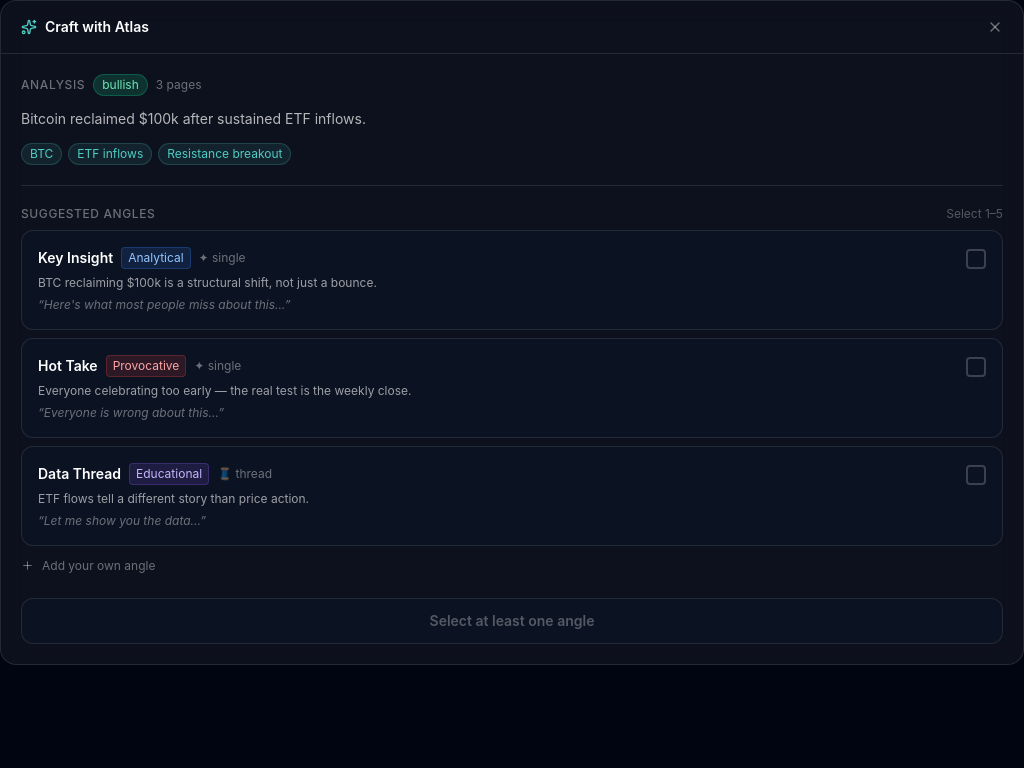
Test case: CraftingAdvisor › custom angle input › shows the custom input field when 'Add your own angle' is clicked
Step 1. Click the button "Add your own angle" → {"x": 99, "y": 565}, box [21, 554, 1003, 578]
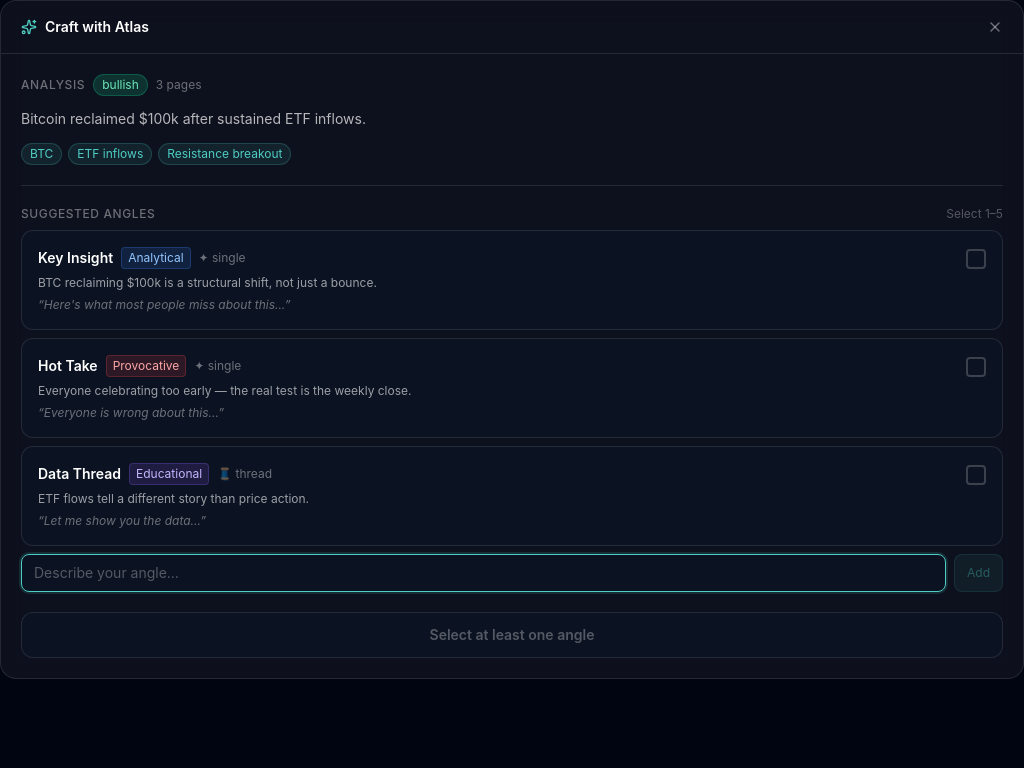
Expected: the button "Add" is shown, [954, 554, 1003, 592]
Expected: the field named "Custom angle description" is shown, [21, 554, 946, 592]
